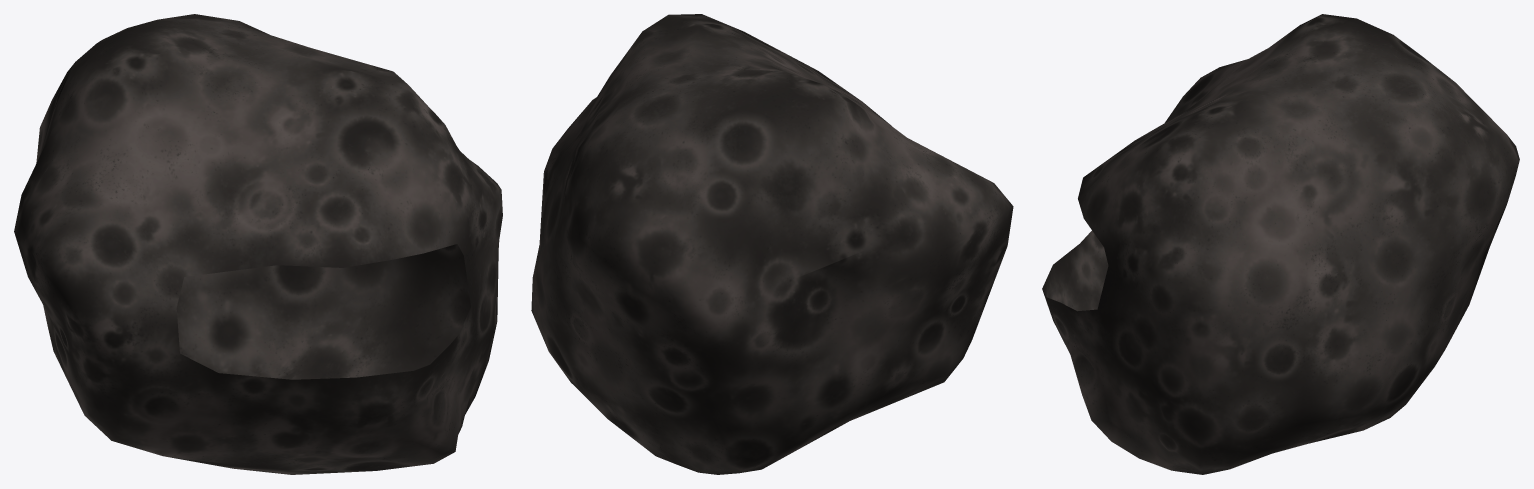
The model's file is station04_asteroid.fbx.
3 renders of one model, left to right at view 1: azimuth 30°, elevation 25°; view 2: azimuth 150°, elevation 25°; view 3: azimuth 270°, elevation 25°, orthographic. The views are drawn at different scales.
Visible parts, largest first — view 1: Asteroid; view 2: Asteroid; view 3: Asteroid.
Boxes of the visible parts, x1,y1,x2,y2 form: Asteroid: [14, 14, 502, 474]; Asteroid: [531, 14, 1013, 474]; Asteroid: [1042, 14, 1519, 474].
Size of the model in its own units: 6734 by 6020 by 6916.
